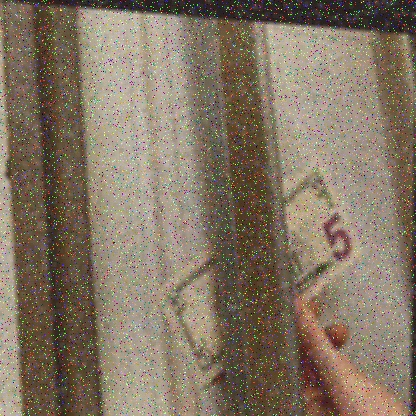five-back: (153, 152, 362, 386)
